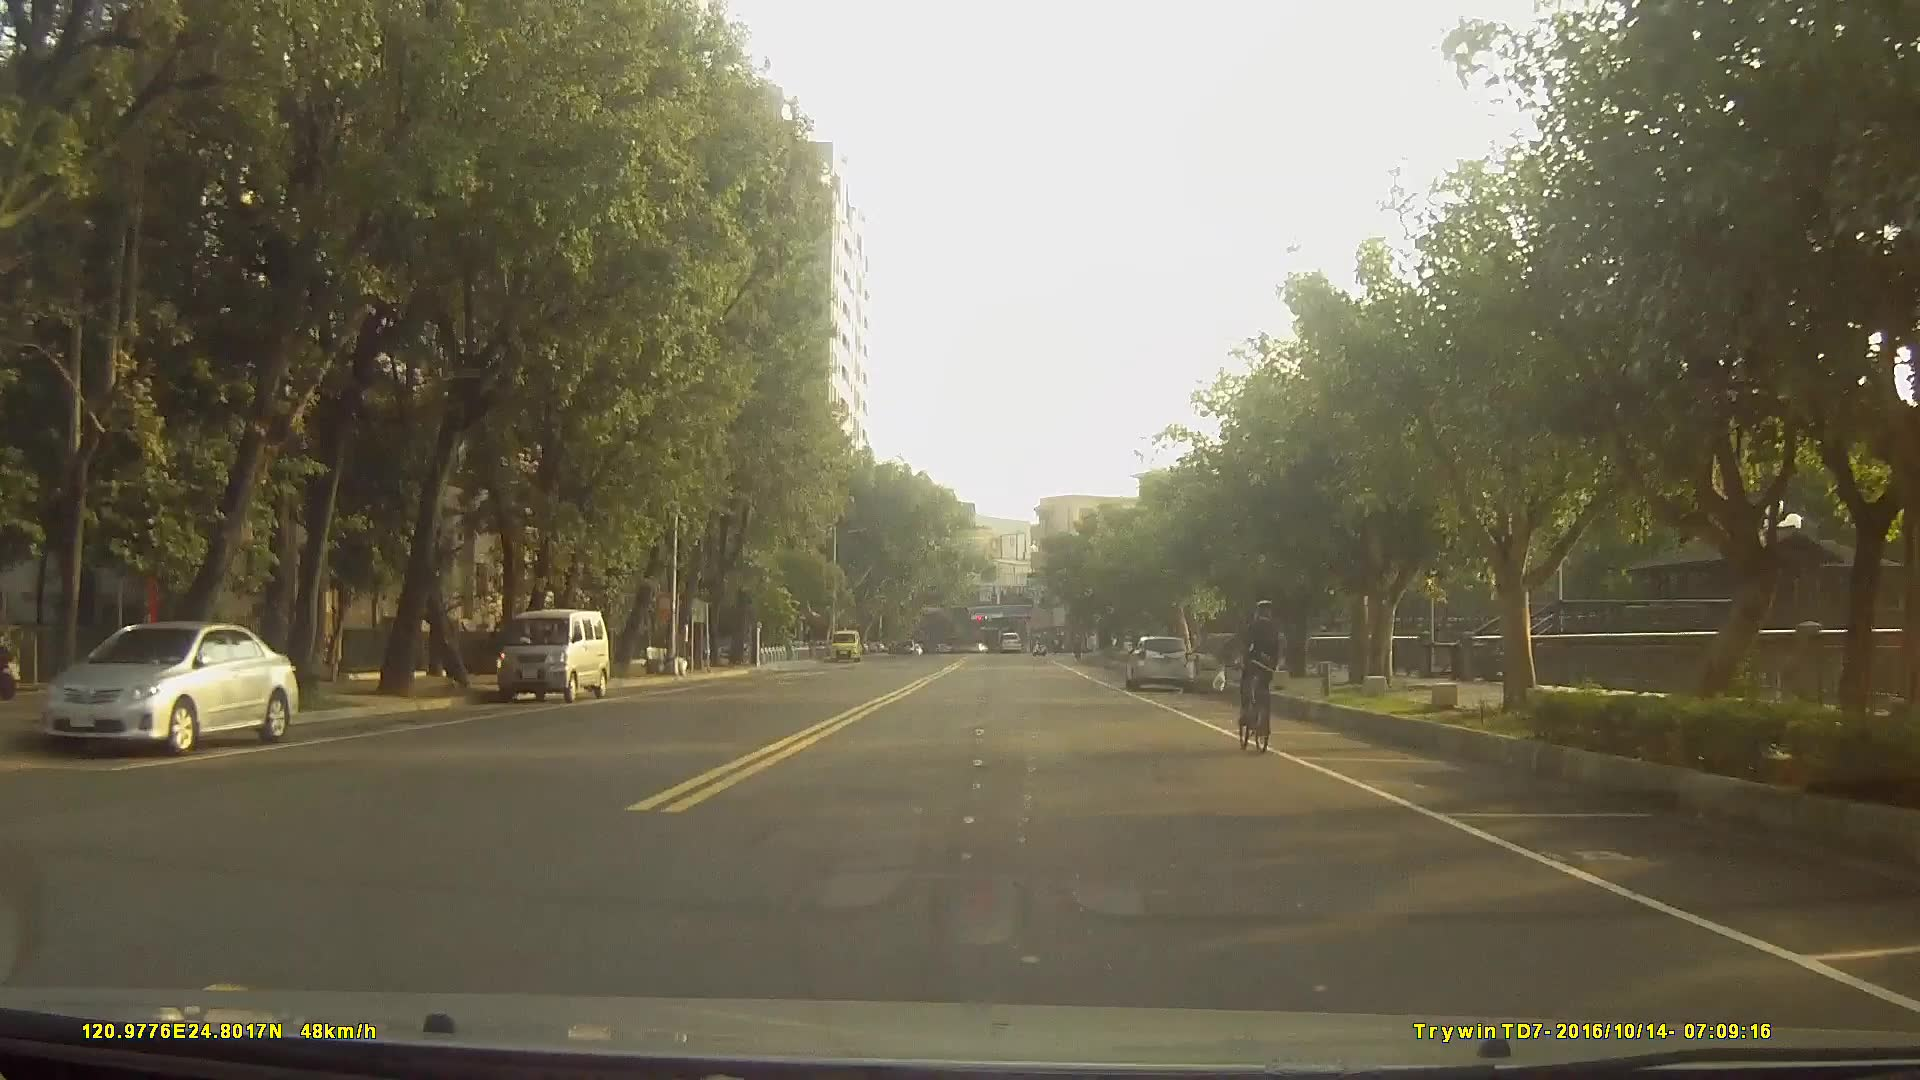rider: (1240, 592, 1283, 746)
vehicle: (42, 619, 300, 755), (496, 605, 610, 702), (1122, 632, 1197, 693), (998, 630, 1022, 653)
